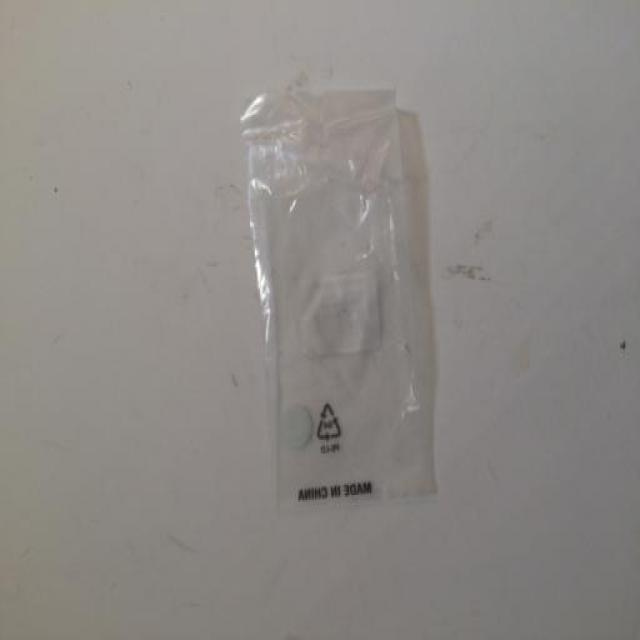Waste: (241, 87, 438, 506)
